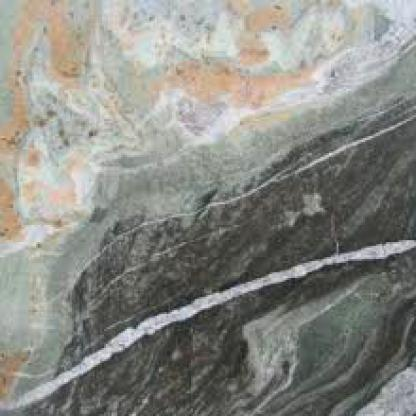Metamorphic_Quartize: (2, 2, 414, 414)
